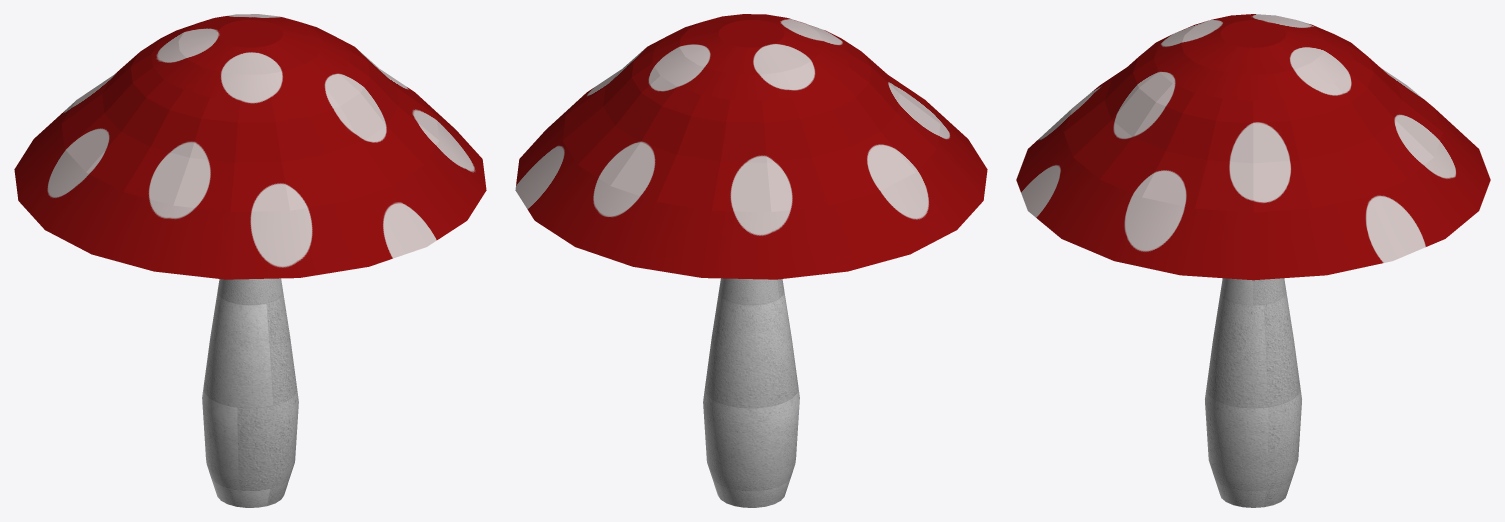
File: Mushroom.fbx
The picture shows the model from 3 angles, left to right: view 1: azimuth 30°, elevation 25°; view 2: azimuth 150°, elevation 25°; view 3: azimuth 270°, elevation 25°; orthographic projection.
Parts seen in each view (by area): view 1: pasted__pCylinder25; view 2: pasted__pCylinder25; view 3: pasted__pCylinder25.
Boxes of the visible parts, box(x1,y1,x2,y2) form: pasted__pCylinder25: box(14, 14, 486, 507); pasted__pCylinder25: box(515, 14, 987, 507); pasted__pCylinder25: box(1016, 14, 1490, 507).
Bounding box in the file's own units: 1.05 × 1.12 × 1.05.
Materials: 1 (1 with a texture image).
